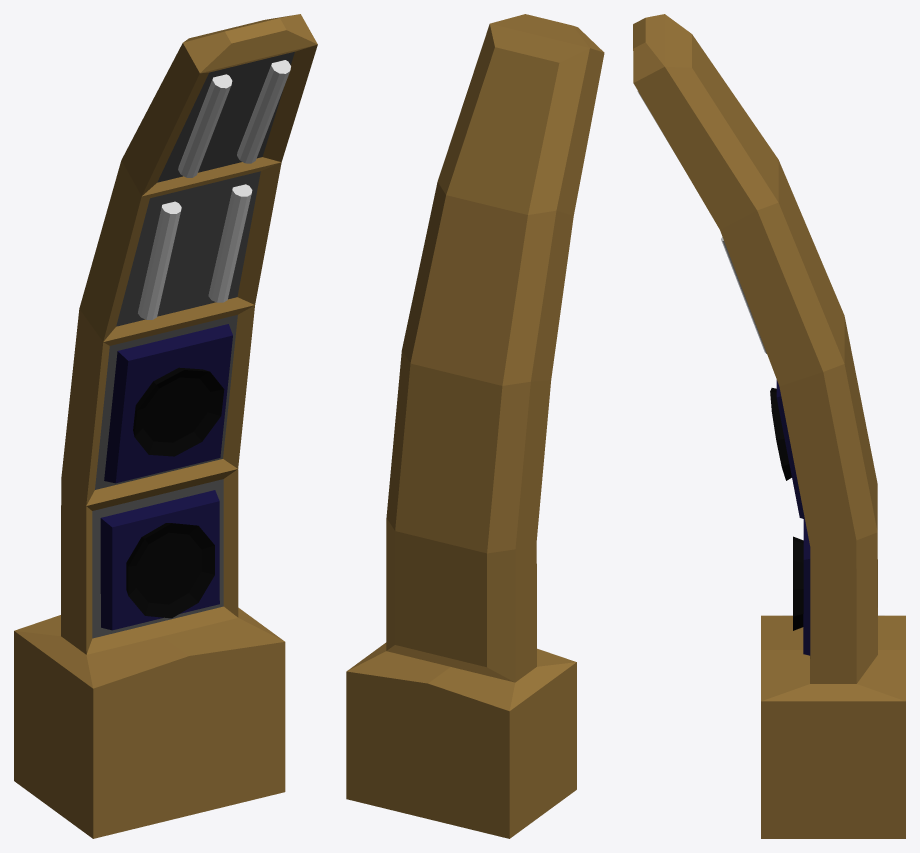
File: YellowMoonPieceIDK.fbx
3 views of the same model, side by side, from view 1: azimuth 30°, elevation 25°; view 2: azimuth 150°, elevation 25°; view 3: azimuth 270°, elevation 25° (orthographic). The views are drawn at different scales.
Parts seen in each view (by area): view 1: Cube; view 2: Cube; view 3: Cube.
Boxes of the visible parts, box(x1,y1,x2,y2) form: Cube: box(14, 14, 317, 838); Cube: box(346, 14, 604, 838); Cube: box(633, 14, 905, 838).
Bounding box in the file's own units: 282 × 1172 × 378.
